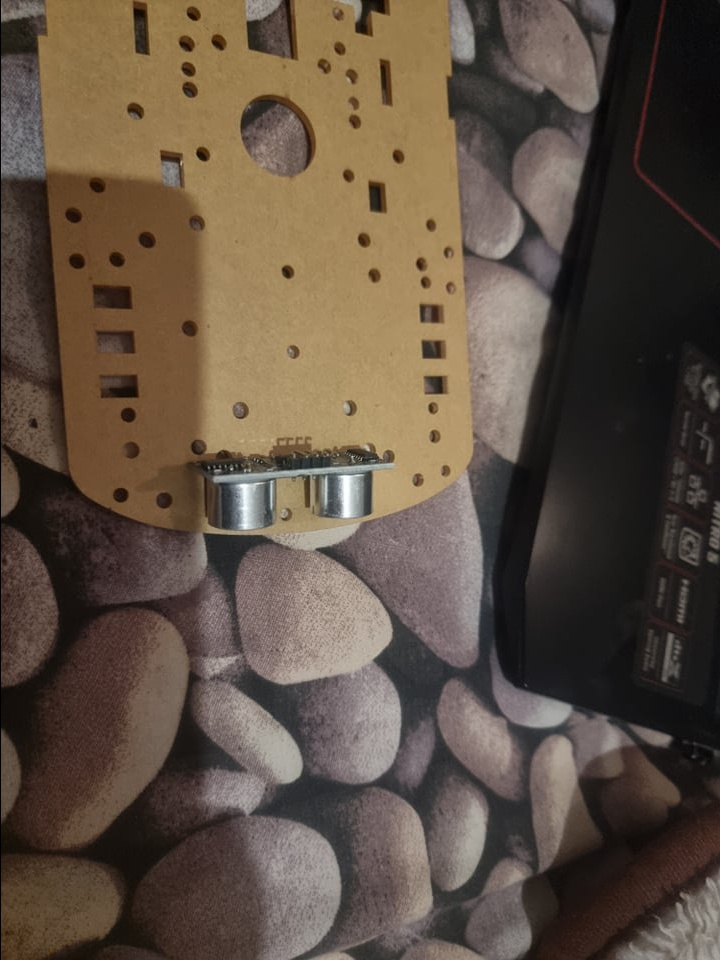SENSOR: (187, 445, 391, 531)
